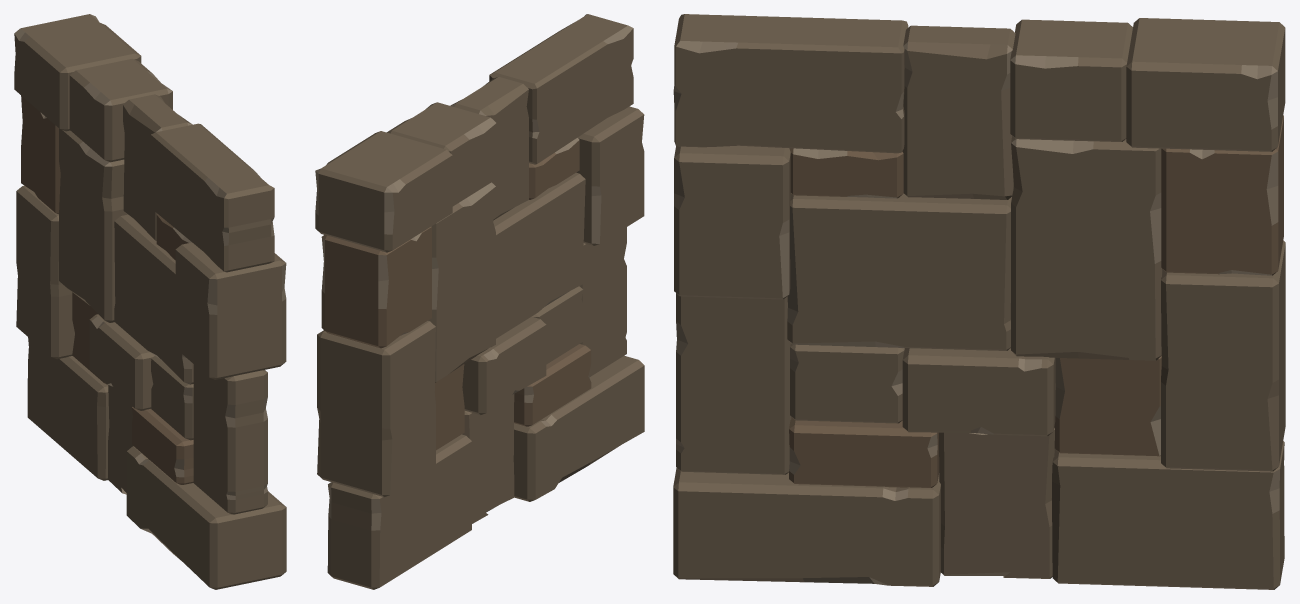
Rendered from final_wall_west_8_lev3.glb.
3 views of the same model, side by side, from view 1: azimuth 30°, elevation 25°; view 2: azimuth 150°, elevation 25°; view 3: azimuth 270°, elevation 25° (orthographic). The views are drawn at different scales.
Visible parts, largest first — view 1: final_wall_west_8_lev3; view 2: final_wall_west_8_lev3; view 3: final_wall_west_8_lev3.
Part boxes in pixels (left/top/right/bottom): final_wall_west_8_lev3: left=14, top=14, right=286, bottom=589; final_wall_west_8_lev3: left=315, top=14, right=644, bottom=589; final_wall_west_8_lev3: left=673, top=14, right=1285, bottom=589.
Size of the model in its own units: 1.64 by 6.02 by 6.27.
